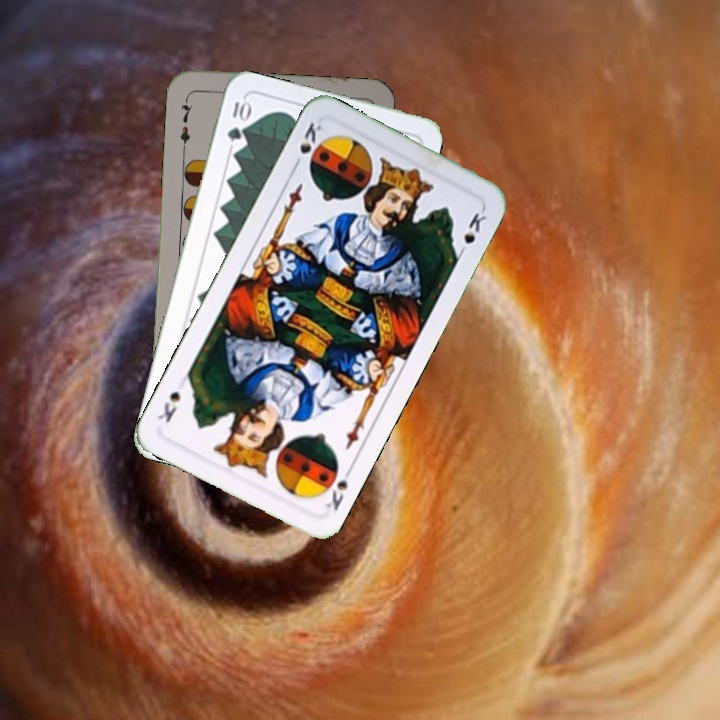E7: (176, 94, 196, 153)
G10: (223, 95, 252, 144)
SK: (289, 117, 325, 172), (321, 461, 356, 514)
